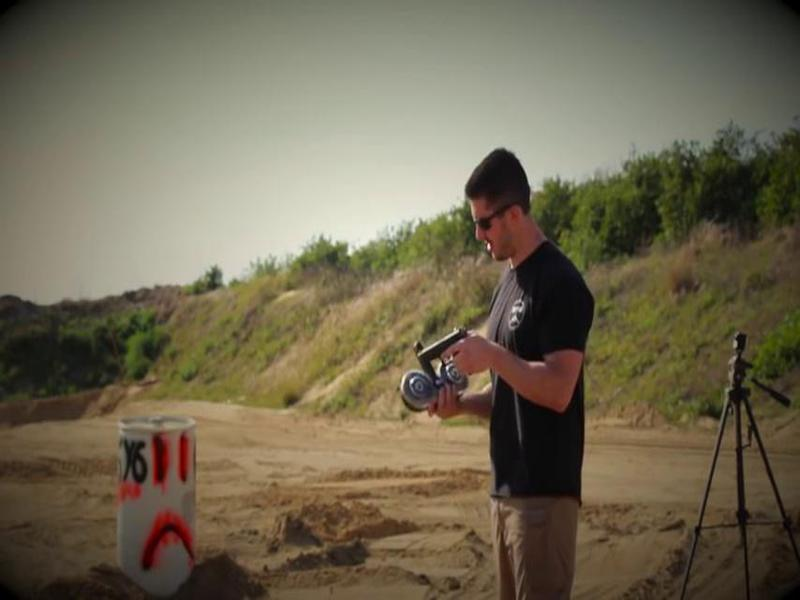Pistola: (408, 320, 499, 395)
